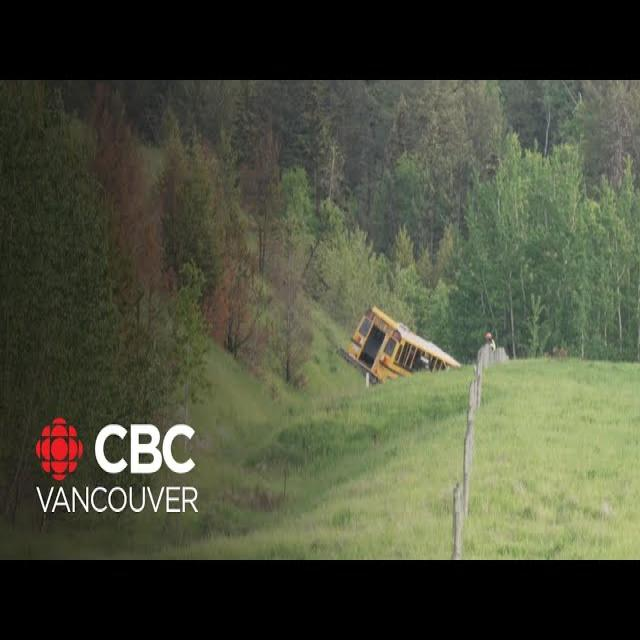Accident: (344, 304, 460, 386)
